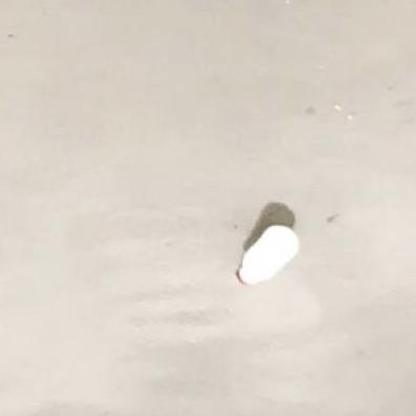plastic bottle: (236, 225, 298, 287)
